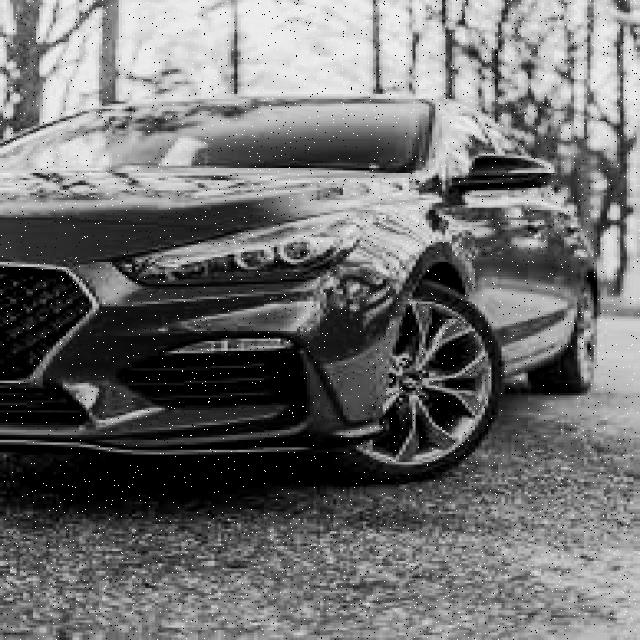Car: (0, 87, 638, 499)
